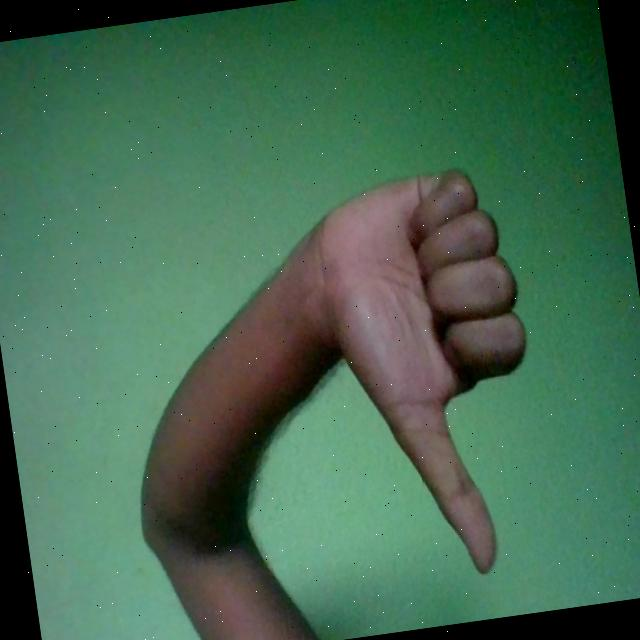Dislike: (298, 159, 560, 594)
